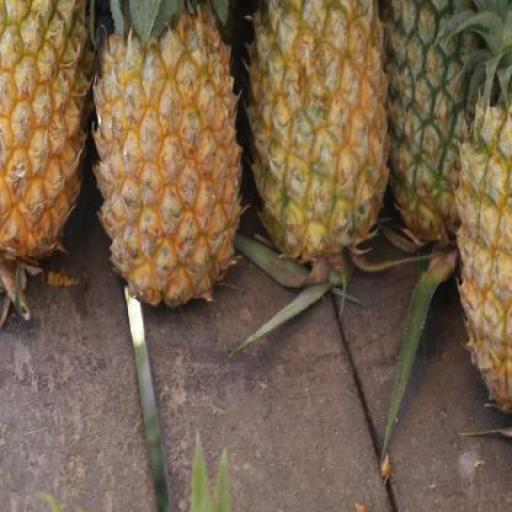------------------------------: (248, 2, 388, 249)
Pineapple - v8 v1: (94, 4, 244, 304), (0, 1, 98, 265)
